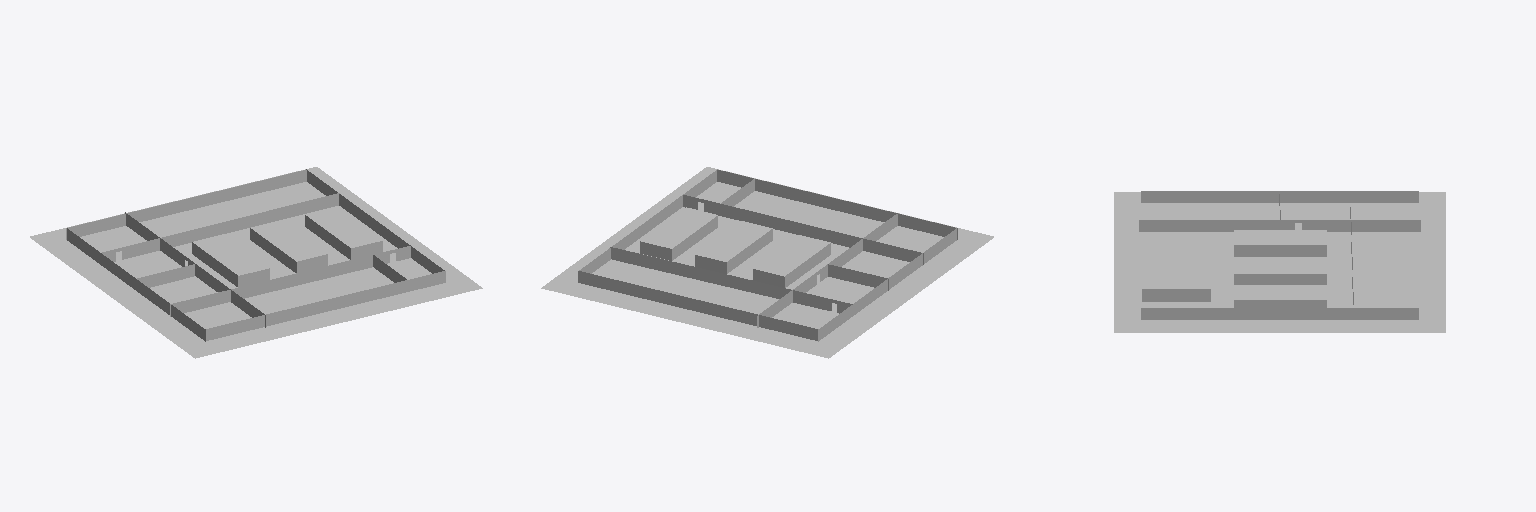
File: Company.mini.obj
3 renders of one model, left to right at view 1: azimuth 30°, elevation 25°; view 2: azimuth 150°, elevation 25°; view 3: azimuth 270°, elevation 25°, orthographic.
Visible parts, largest first — view 1: 床, 壁④, 壁③, 壁④.005, 壁④.002, 立方体.002, 立方体.001, 立方体.003, 壁②, 壁①, 壁②.001, 壁②.002 (+1 smaller); view 2: 床, 壁③, 壁④, 壁④.005, 壁④.002, 立方体.002, 立方体.001, 立方体.003, 壁②, 壁①, 壁②.001, 壁④.007 (+1 smaller); view 3: 床, 壁①, 壁②, 立方体.001, 立方体.003, 立方体.002, 壁②.001, 壁②.002, 壁①.001.
Boxes of the visible parts, x1,y1,x2,y2 form: 床: [30, 167, 482, 358]; 壁④: [206, 271, 445, 340]; 壁③: [66, 170, 306, 239]; 壁④.005: [122, 193, 339, 259]; 壁④.002: [170, 251, 389, 316]; 立方体.002: [305, 207, 382, 259]; 立方体.001: [250, 220, 327, 272]; 立方体.003: [192, 234, 269, 287]; 壁②: [67, 228, 205, 341]; 壁①: [306, 169, 444, 273]; 壁②.001: [188, 258, 265, 327]; 壁②.002: [125, 212, 184, 266]; 床: [541, 167, 993, 358]; 壁③: [578, 271, 817, 340]; 壁④: [717, 170, 957, 239]; 壁④.005: [610, 247, 831, 310]; 壁④.002: [704, 200, 923, 264]; 立方体.002: [640, 207, 717, 260]; 立方体.001: [695, 221, 772, 273]; 立方体.003: [753, 235, 830, 287]; 壁②: [818, 228, 956, 341]; 壁①: [579, 169, 717, 273]; 壁②.001: [820, 213, 898, 281]; 壁④.007: [828, 264, 888, 290]; 床: [1114, 192, 1445, 332]; 壁①: [1141, 308, 1418, 319]; 壁②: [1141, 191, 1418, 202]; 立方体.001: [1234, 258, 1326, 284]; 立方体.003: [1234, 230, 1326, 256]; 立方体.002: [1234, 285, 1326, 307]; 壁②.001: [1139, 220, 1294, 231]; 壁②.002: [1302, 220, 1420, 231]; 壁①.001: [1142, 289, 1210, 301].
Bounding box in the file's own units: 596 × 26.06 × 596.